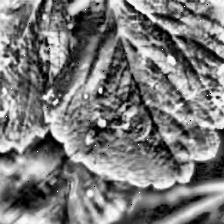Leaf Spot: (42, 0, 224, 192)
